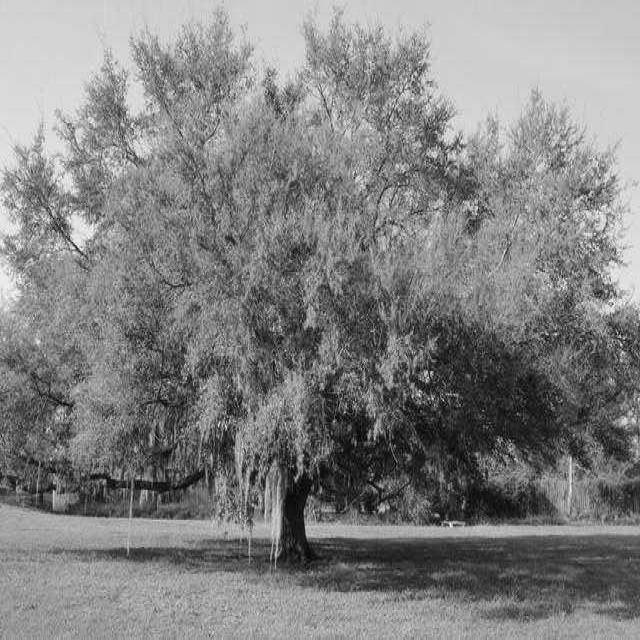Tree: (0, 15, 640, 563)
